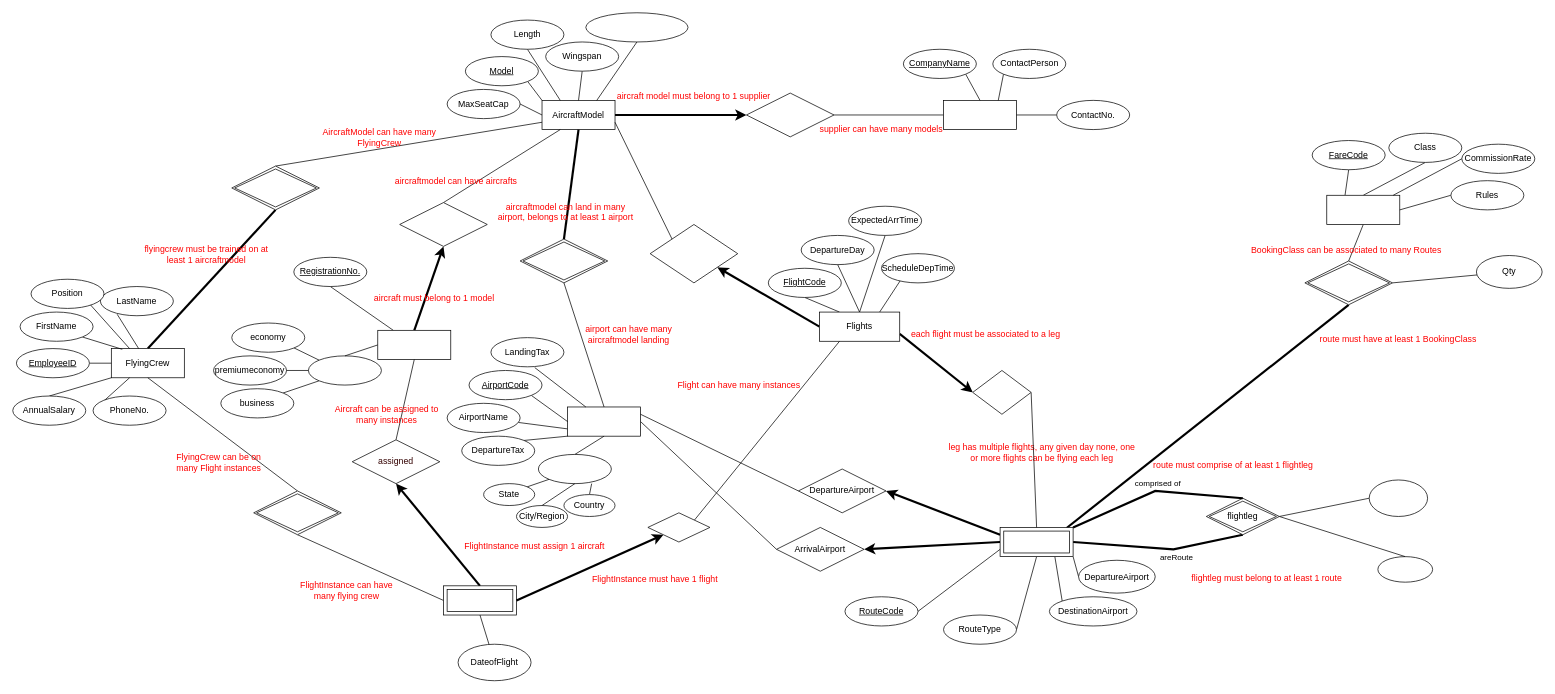
The diagram is 1555 pixels wide and 694 high, and some of its shapes have lost their labels. The centre of each missing label's shape, as x and y in pixels:
"Aircraft" belongs at point 414,345.
"Airport" belongs at point 604,421.
"associate" belongs at point 1001,392.
"BookingClass" belongs at point 1363,209.
"CanLand" belongs at point 563,260.
"DefaultAircraft" belongs at point 693,253.
"Duration" belongs at point 1405,569.
"FlightInstance" belongs at point 479,600.
"Has" belongs at point 678,527.
"Length(miles)" belongs at point 1398,497.
"Location" belongs at point 574,469.
"Manufactured_by" belongs at point 790,114.
"Relationship" belongs at point 297,512.
"route" belongs at point 1036,542.
"RunwayLengthReq" belongs at point 636,27.
"Seat Capacity" belongs at point 344,370.
"SeatsAllocated" belongs at point 1348,282.
"Supplier" belongs at point 980,115.
"TrainedOn" belongs at point 275,187.
"Type" belongs at point 443,224.
